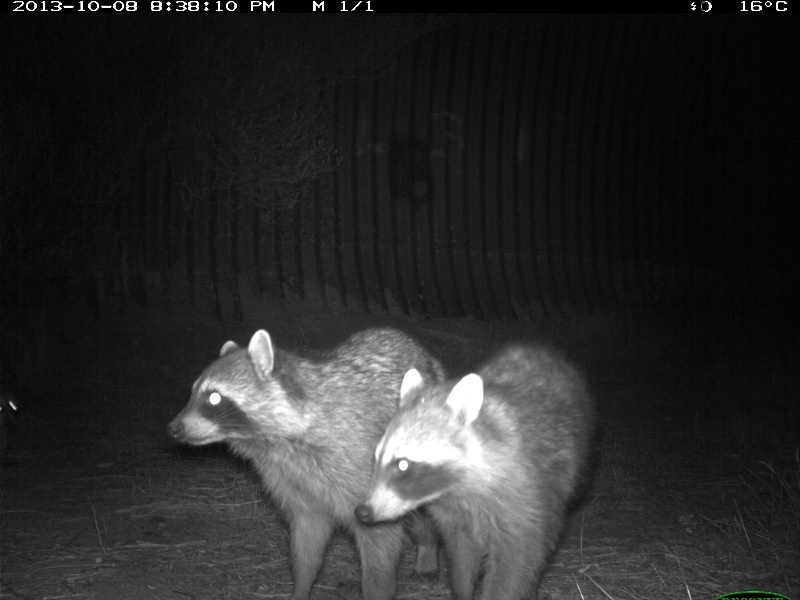raccoon: (169, 320, 447, 600), (353, 339, 609, 596)
